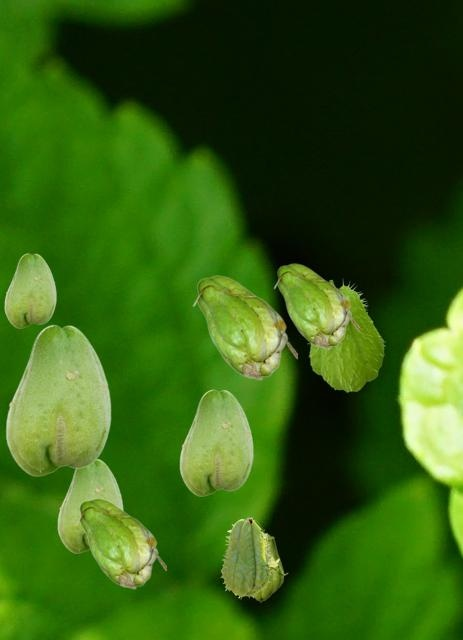sayote: (5, 324, 110, 475), (192, 275, 296, 379), (307, 278, 385, 391), (75, 498, 165, 588), (179, 389, 252, 495), (273, 263, 358, 348), (57, 458, 122, 552), (220, 517, 271, 598), (4, 253, 55, 327), (254, 533, 287, 601)
